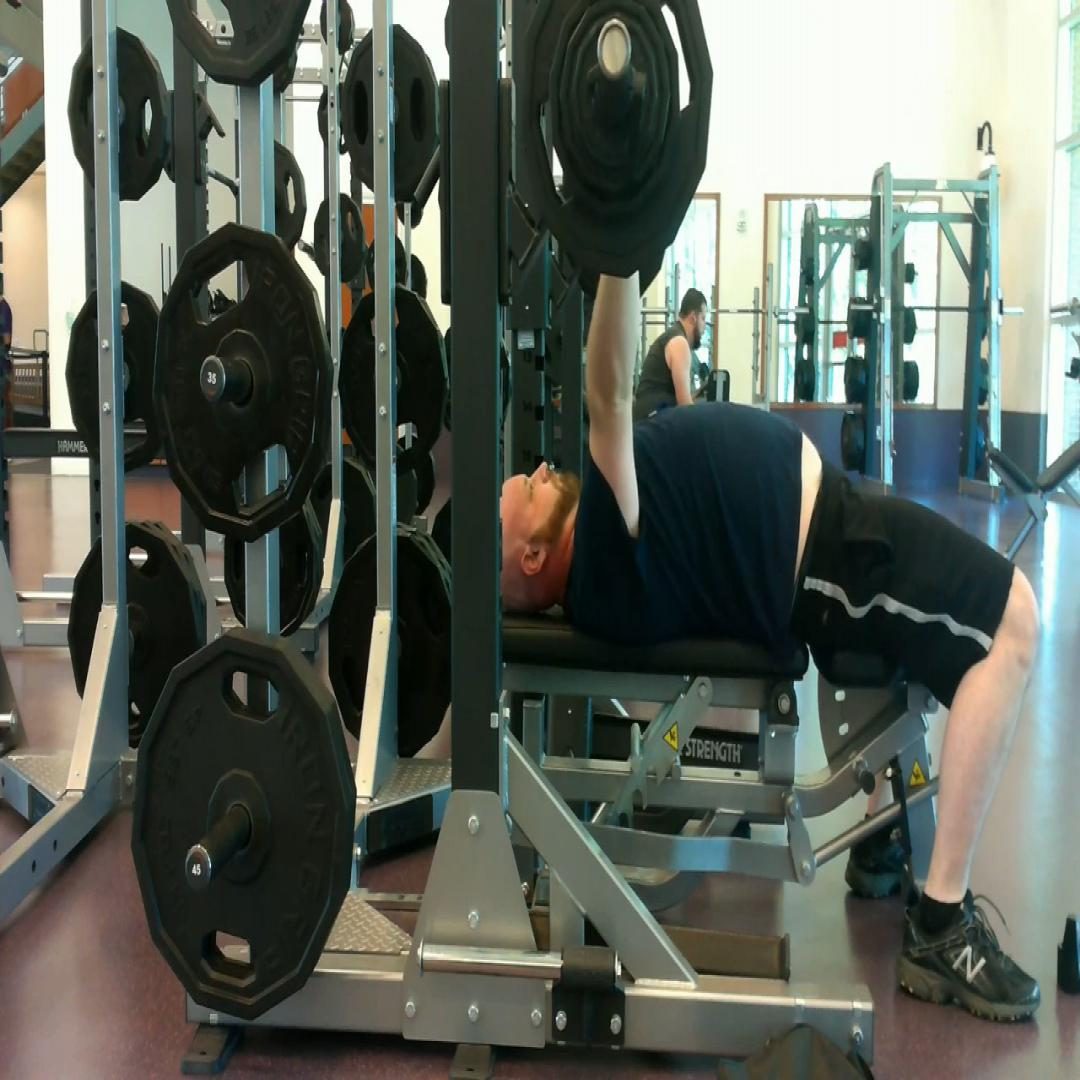Bar: (597, 18, 632, 78)
Barbell: (521, 0, 713, 278)
